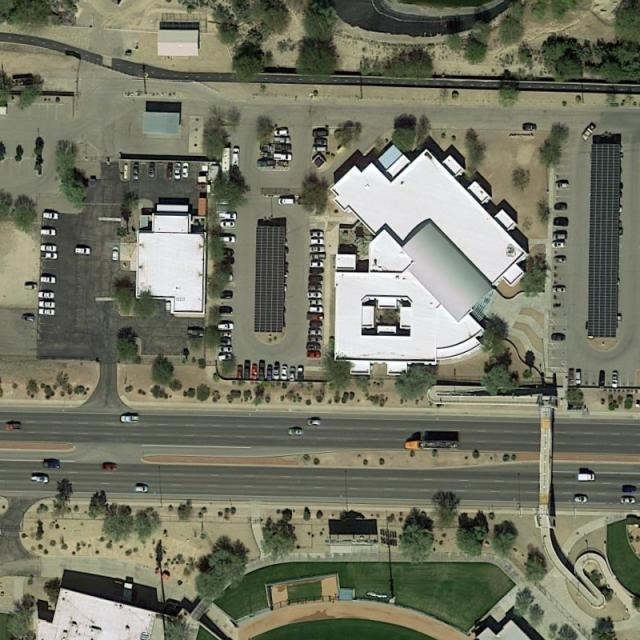vehicle: (402, 438, 461, 452), (581, 122, 598, 142), (119, 415, 140, 424), (42, 461, 61, 470), (232, 148, 240, 169), (40, 252, 58, 261), (577, 473, 597, 481), (30, 475, 50, 483), (257, 159, 274, 168), (187, 329, 206, 337), (598, 370, 606, 388), (575, 370, 584, 386), (280, 363, 288, 381), (131, 163, 140, 179), (38, 310, 58, 317), (274, 154, 291, 162), (554, 182, 571, 190), (102, 464, 119, 472), (218, 353, 233, 362), (554, 218, 570, 226), (309, 306, 325, 314), (251, 366, 259, 382), (272, 365, 280, 381), (266, 365, 274, 381), (258, 363, 266, 379), (297, 366, 305, 382), (173, 162, 181, 178), (182, 162, 190, 178), (278, 198, 294, 206), (217, 322, 233, 330), (620, 485, 638, 492), (312, 146, 330, 153), (274, 136, 292, 143), (166, 162, 173, 180), (40, 245, 58, 252), (39, 292, 57, 299), (552, 286, 567, 294), (219, 346, 234, 354), (288, 367, 296, 382), (41, 230, 56, 238), (311, 139, 328, 146), (308, 231, 325, 238), (309, 246, 326, 253), (309, 253, 326, 260), (313, 130, 330, 137), (220, 214, 237, 221), (43, 213, 60, 220), (40, 277, 57, 284), (24, 283, 37, 292), (574, 494, 588, 502), (620, 497, 636, 504), (554, 202, 570, 209), (307, 291, 323, 298), (306, 343, 322, 350), (306, 351, 322, 358), (220, 258, 236, 265), (217, 338, 233, 345), (6, 423, 22, 430), (288, 430, 304, 437), (74, 247, 90, 254), (111, 246, 118, 262), (568, 368, 574, 386), (551, 334, 566, 341), (310, 260, 325, 267), (308, 284, 323, 291), (149, 163, 156, 178), (134, 486, 149, 493), (308, 418, 323, 425), (40, 302, 55, 309), (612, 371, 618, 388), (274, 145, 291, 151), (553, 232, 567, 239), (552, 242, 566, 249), (220, 307, 234, 314), (219, 249, 233, 256), (244, 363, 250, 379), (219, 223, 235, 229), (273, 129, 289, 135), (22, 315, 35, 322), (310, 239, 325, 245), (310, 321, 325, 327), (307, 337, 322, 343), (218, 332, 233, 338), (218, 237, 236, 242), (521, 125, 538, 130), (554, 257, 566, 264), (309, 274, 323, 280), (309, 300, 322, 306), (238, 366, 244, 379), (220, 292, 233, 298), (222, 274, 233, 281), (308, 330, 322, 335), (310, 269, 324, 273)
